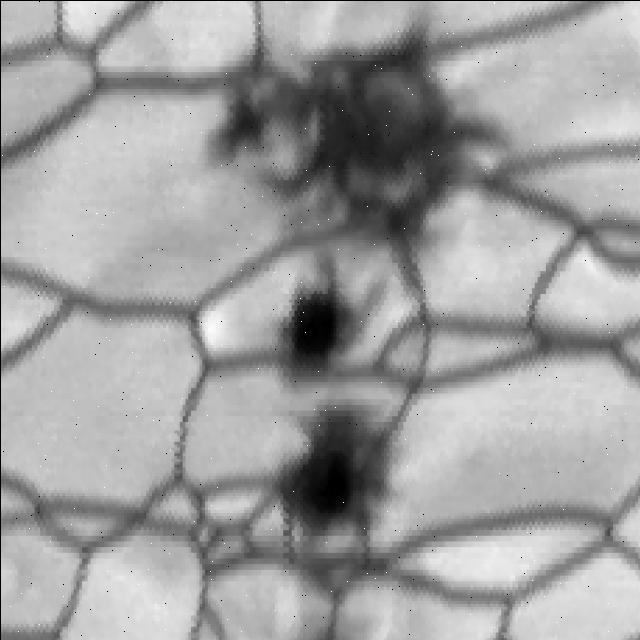good_void: (195, 29, 504, 246), (273, 405, 401, 540), (265, 260, 362, 367)
